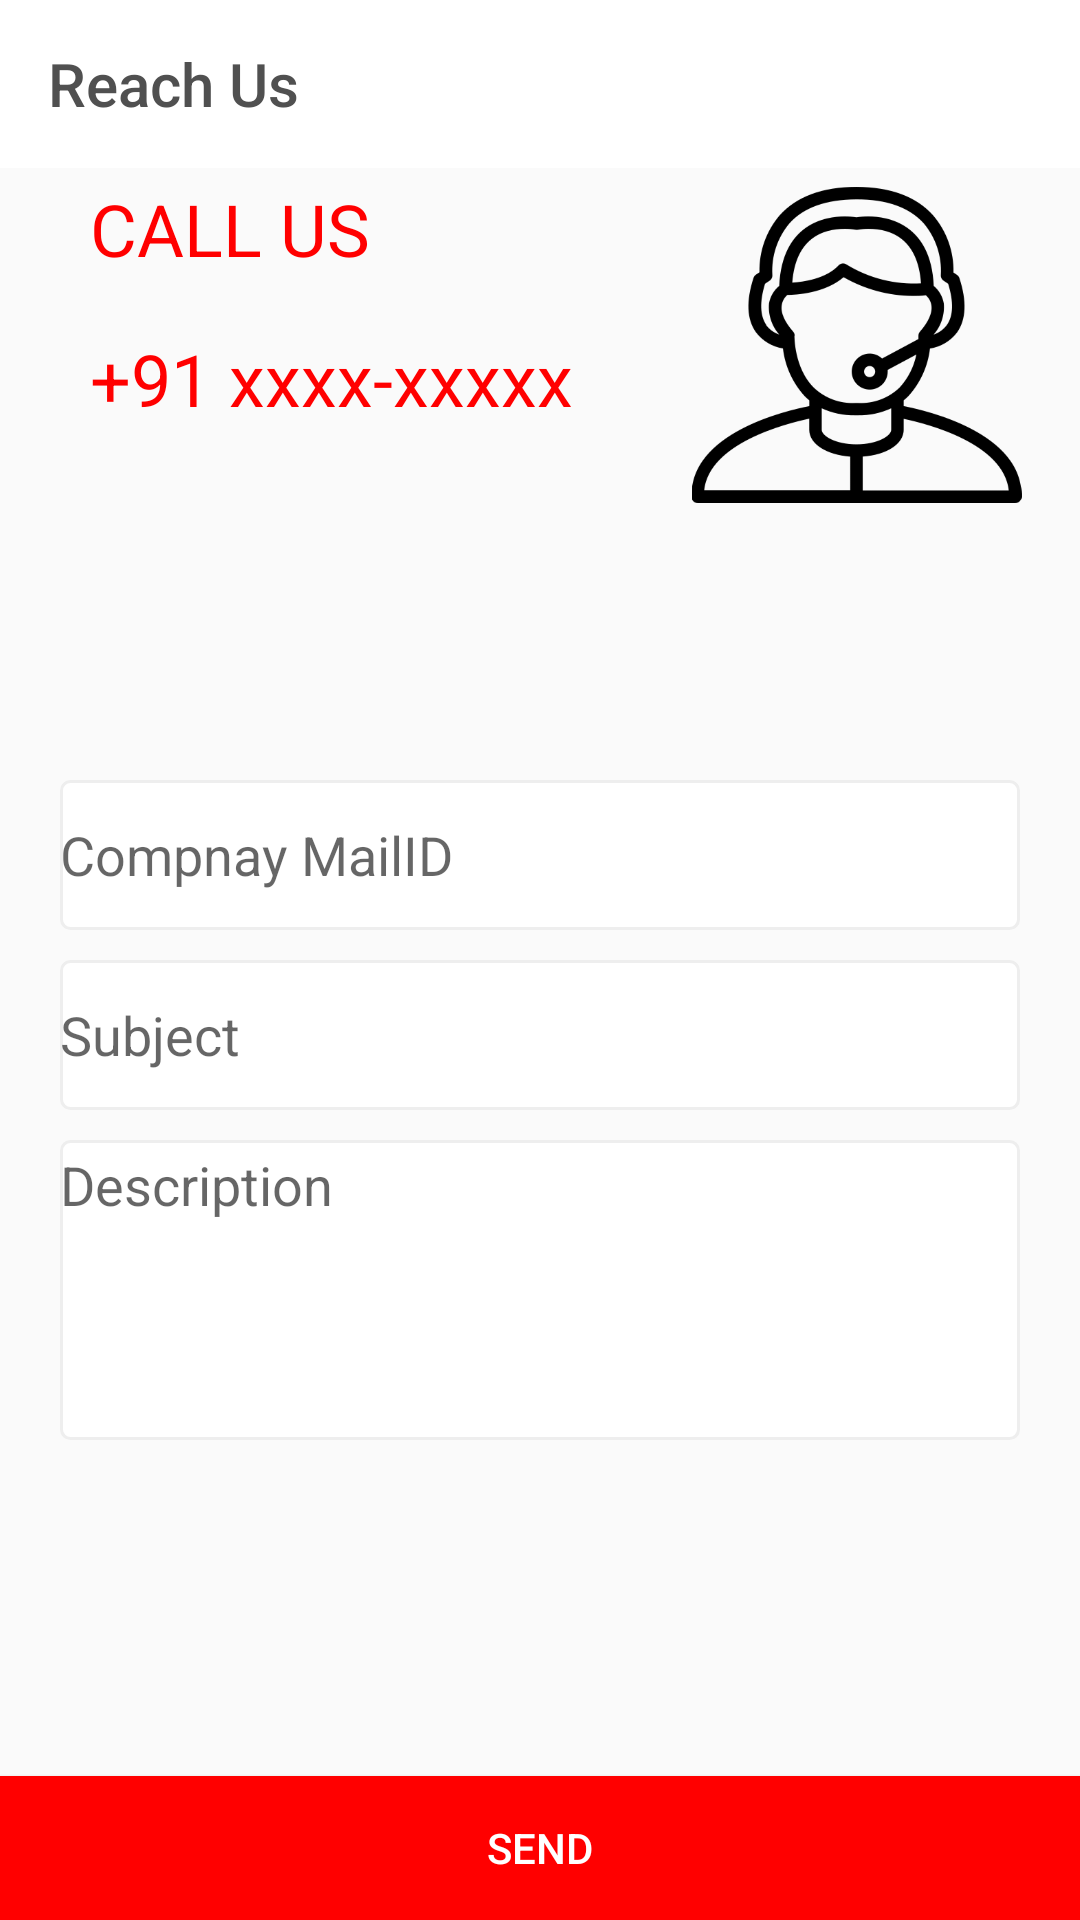

Icons on this 1080x1920 Android screen, each with its box as (x1=x1, y1=y1, x2=x2, y2=y2):
gethelp: (x1=692, y1=187, x2=1022, y2=503)
